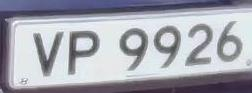2: (181, 19, 215, 69)
6: (213, 16, 246, 67)
9: (114, 23, 154, 76), (148, 21, 186, 72)
P: (65, 26, 105, 79)
V: (29, 27, 67, 81)
